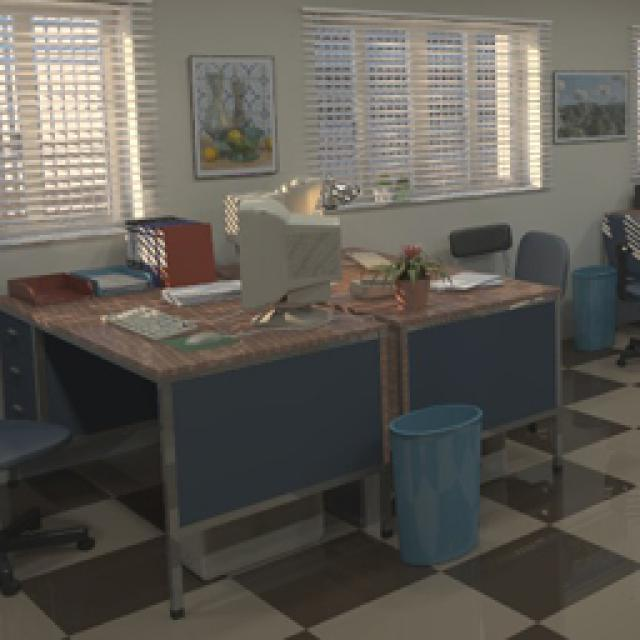2001: (302, 8, 542, 205)
books crop: (122, 210, 218, 285), (425, 268, 500, 288)
box contants: (345, 272, 392, 298)
chair: (442, 218, 512, 272), (510, 228, 565, 295)
chair -occluded-: (598, 208, 638, 362)
chair seat: (0, 415, 95, 595)
desk calendar: (0, 252, 385, 612), (330, 242, 562, 468)
file cabinet: (68, 260, 150, 295)
folder: (8, 268, 90, 302)
keyboard crop: (100, 302, 195, 340), (345, 245, 392, 268)
lamp crop: (265, 170, 360, 208)
monitor crop: (232, 190, 340, 302)
mouse: (162, 328, 232, 352)
mouse pad: (182, 328, 215, 342)
painting crop: (190, 55, 272, 172), (552, 72, 622, 138)
plant -x: (375, 240, 448, 305)
trash compactor: (382, 402, 478, 562), (570, 262, 615, 348)
